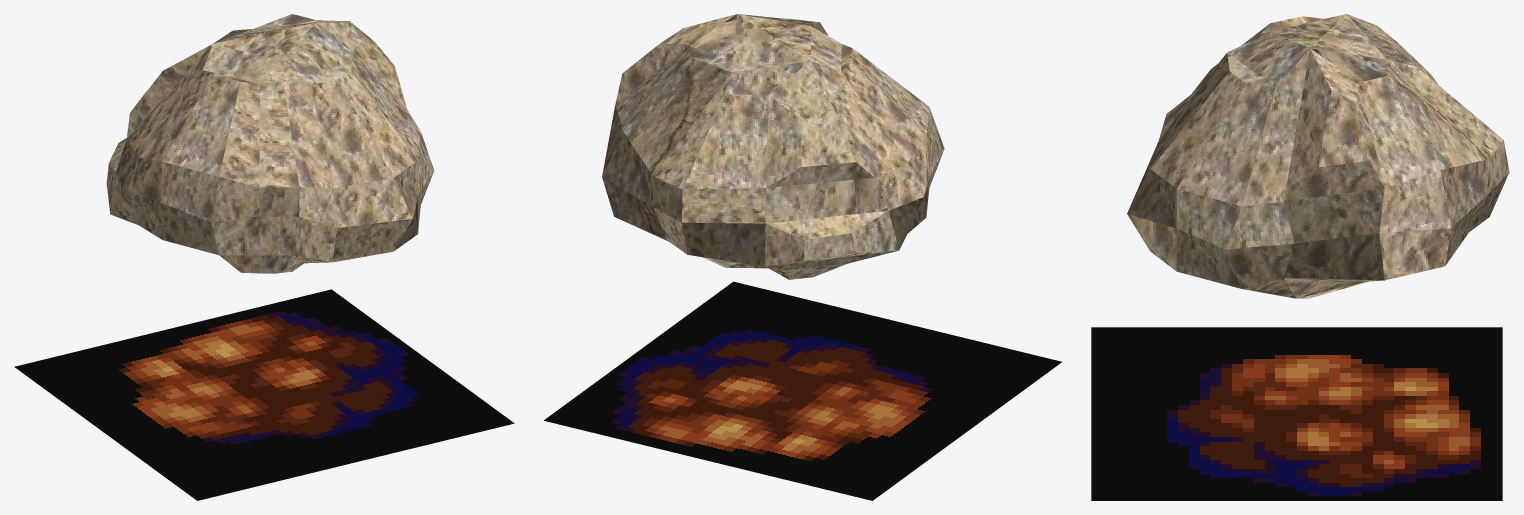
Rendered from asteroid.gltf.
3 views of the same model, side by side, from view 1: azimuth 30°, elevation 25°; view 2: azimuth 150°, elevation 25°; view 3: azimuth 270°, elevation 25° (orthographic). The views are drawn at different scales.
Parts seen in each view (by area): view 1: rock, plane; view 2: rock, plane; view 3: rock, plane.
Boxes of the visible parts, <box> form: rock: <box>106,14,434,273</box>; plane: <box>14,289,514,500</box>; rock: <box>602,14,944,279</box>; plane: <box>544,281,1061,500</box>; rock: <box>1127,14,1509,298</box>; plane: <box>1091,327,1502,500</box>.
Size of the model in its own units: 1 by 1.07 by 1.02.
2 materials, 2 textured.
